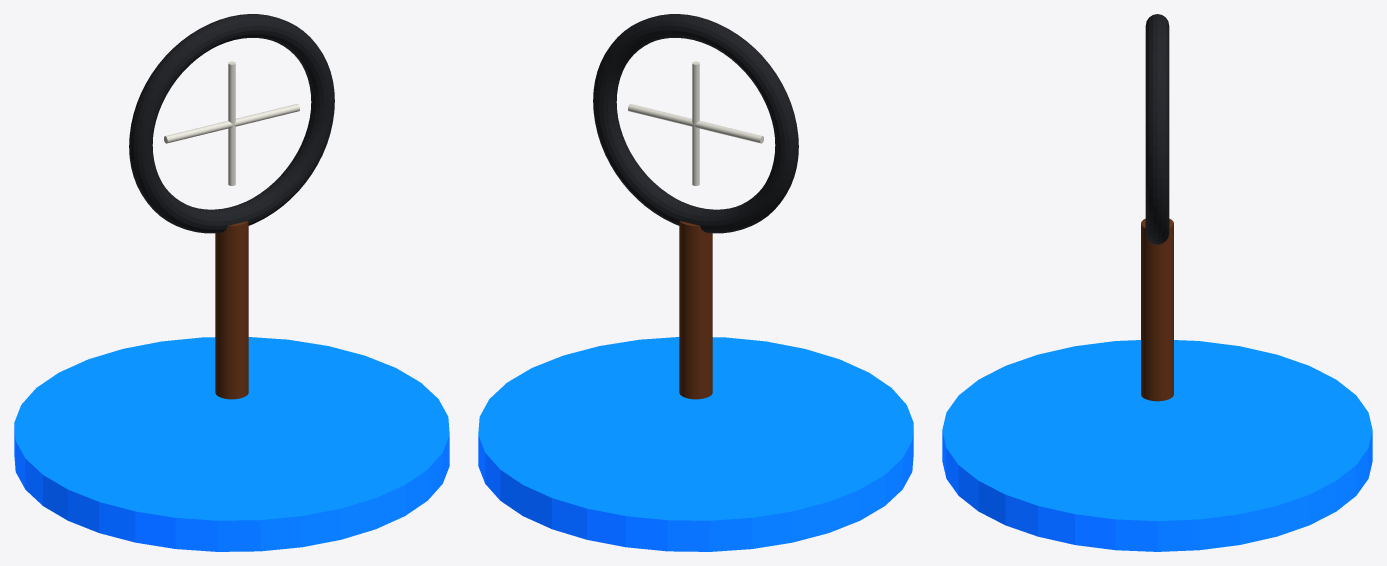
The model's file is sports_tennis_racket.dae.
The picture shows the model from 3 angles, left to right: view 1: azimuth 30°, elevation 25°; view 2: azimuth 150°, elevation 25°; view 3: azimuth 270°, elevation 25°; orthographic projection.
Parts seen in each view (by area): view 1: 04_12_Popular_Sports_Tennis_Racket_ROOT_base, 04_12_Popular_Sports_Tennis_Racket_part_01, 04_12_Popular_Sports_Tennis_Racket_part_02, 04_12_Popular_Sports_Tennis_Racket_part_03, 04_12_Popular_Sports_Tennis_Racket_part_04; view 2: 04_12_Popular_Sports_Tennis_Racket_ROOT_base, 04_12_Popular_Sports_Tennis_Racket_part_01, 04_12_Popular_Sports_Tennis_Racket_part_02, 04_12_Popular_Sports_Tennis_Racket_part_03, 04_12_Popular_Sports_Tennis_Racket_part_04; view 3: 04_12_Popular_Sports_Tennis_Racket_ROOT_base, 04_12_Popular_Sports_Tennis_Racket_part_01, 04_12_Popular_Sports_Tennis_Racket_part_02.
Part boxes in pixels (<box>): 04_12_Popular_Sports_Tennis_Racket_ROOT_base: <box>14,337,449,551</box>; 04_12_Popular_Sports_Tennis_Racket_part_01: <box>129,14,334,233</box>; 04_12_Popular_Sports_Tennis_Racket_part_02: <box>215,221,248,399</box>; 04_12_Popular_Sports_Tennis_Racket_part_03: <box>164,104,299,143</box>; 04_12_Popular_Sports_Tennis_Racket_part_04: <box>228,61,235,185</box>; 04_12_Popular_Sports_Tennis_Racket_ROOT_base: <box>478,337,913,551</box>; 04_12_Popular_Sports_Tennis_Racket_part_01: <box>593,14,798,233</box>; 04_12_Popular_Sports_Tennis_Racket_part_02: <box>679,221,712,399</box>; 04_12_Popular_Sports_Tennis_Racket_part_03: <box>628,104,763,143</box>; 04_12_Popular_Sports_Tennis_Racket_part_04: <box>692,61,699,185</box>; 04_12_Popular_Sports_Tennis_Racket_ROOT_base: <box>942,340,1372,551</box>; 04_12_Popular_Sports_Tennis_Racket_part_01: <box>1145,14,1169,244</box>; 04_12_Popular_Sports_Tennis_Racket_part_02: <box>1141,218,1173,401</box>.
Size of the model in its own units: 0.76 by 0.85 by 0.76.
